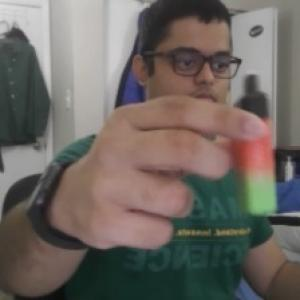Swift-E-Ciggirate: (229, 70, 284, 224)
